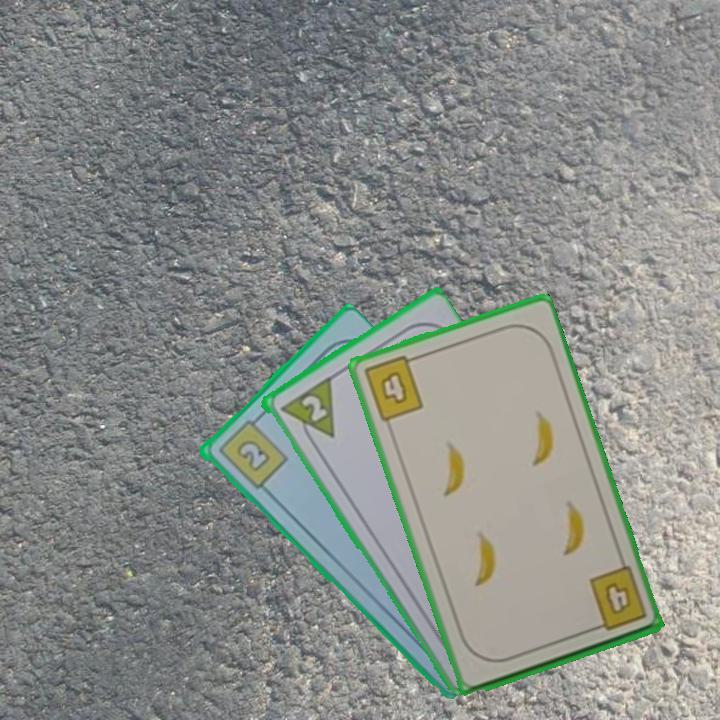2b: (214, 411, 290, 492)
2p: (297, 391, 330, 425)
4b: (359, 351, 426, 425), (585, 562, 650, 634)
